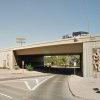Bridge: (13, 22, 98, 73)
